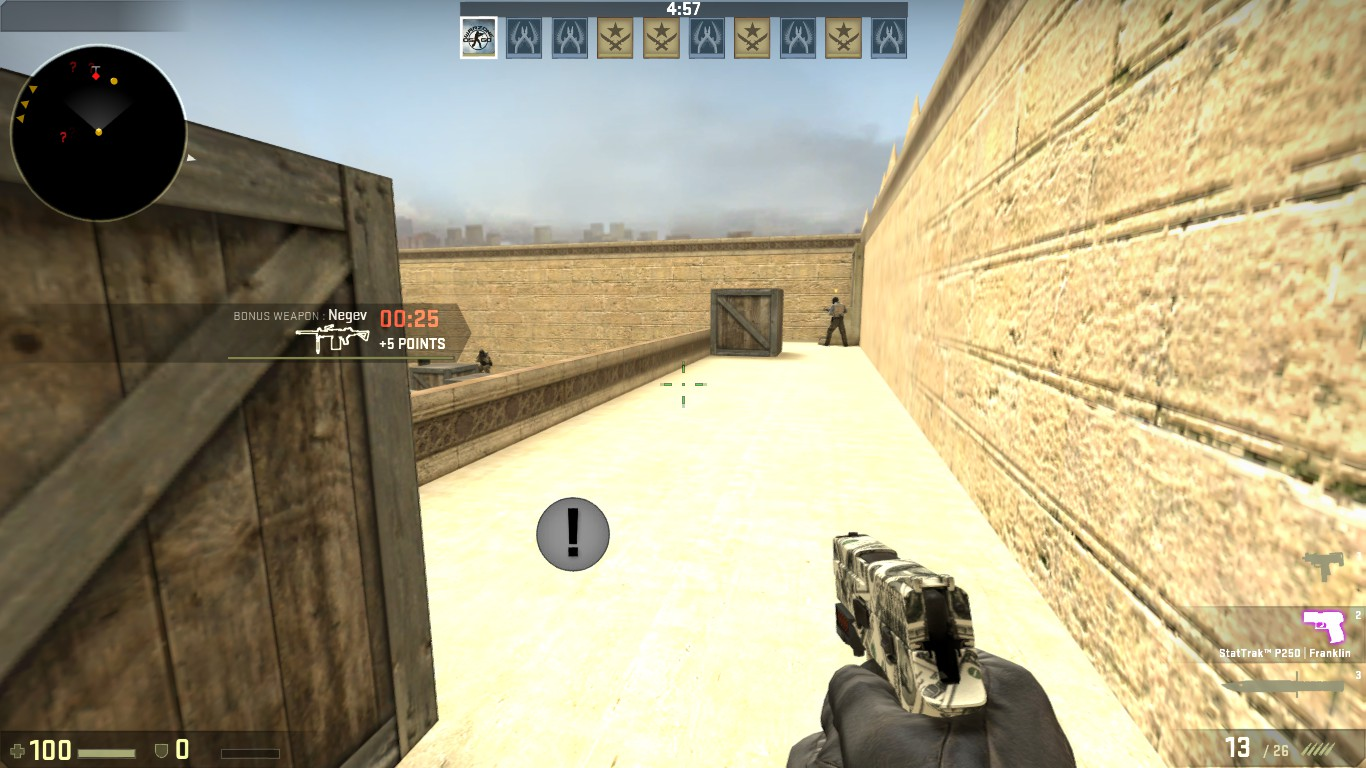c: (476, 348, 493, 374)
ch: (477, 349, 487, 357)
t: (825, 296, 846, 348)
th: (830, 297, 842, 306)
